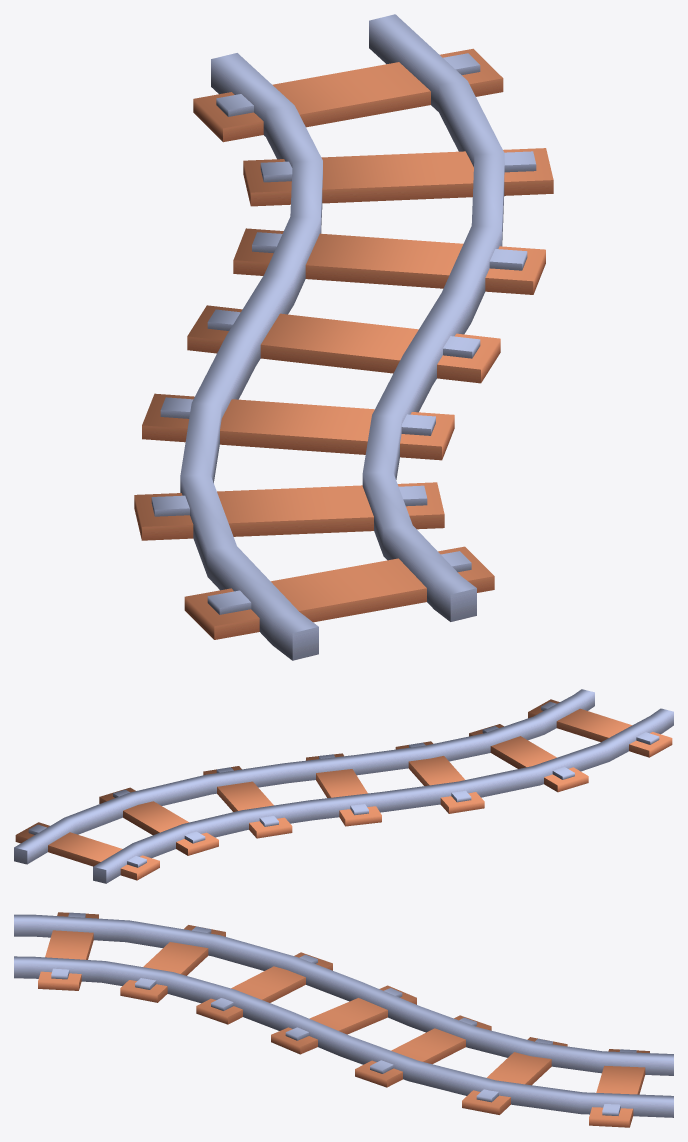
File: kenney-train-railroad-curve.glb
3 renders of one model, top to bottom at view 1: azimuth 30°, elevation 25°; view 2: azimuth 150°, elevation 25°; view 3: azimuth 270°, elevation 25°, orthographic. The views are drawn at different scales.
Visible parts, largest first — view 1: railroad-curve; view 2: railroad-curve; view 3: railroad-curve.
Boxes of the visible parts, left/top/right/bottom form: railroad-curve: left=134, top=14, right=553, bottom=660; railroad-curve: left=14, top=689, right=673, bottom=883; railroad-curve: left=14, top=912, right=673, bottom=1127.
Size of the model in its own units: 2.98 by 0.1001 by 4.
Materials: 1 (1 with a texture image).
